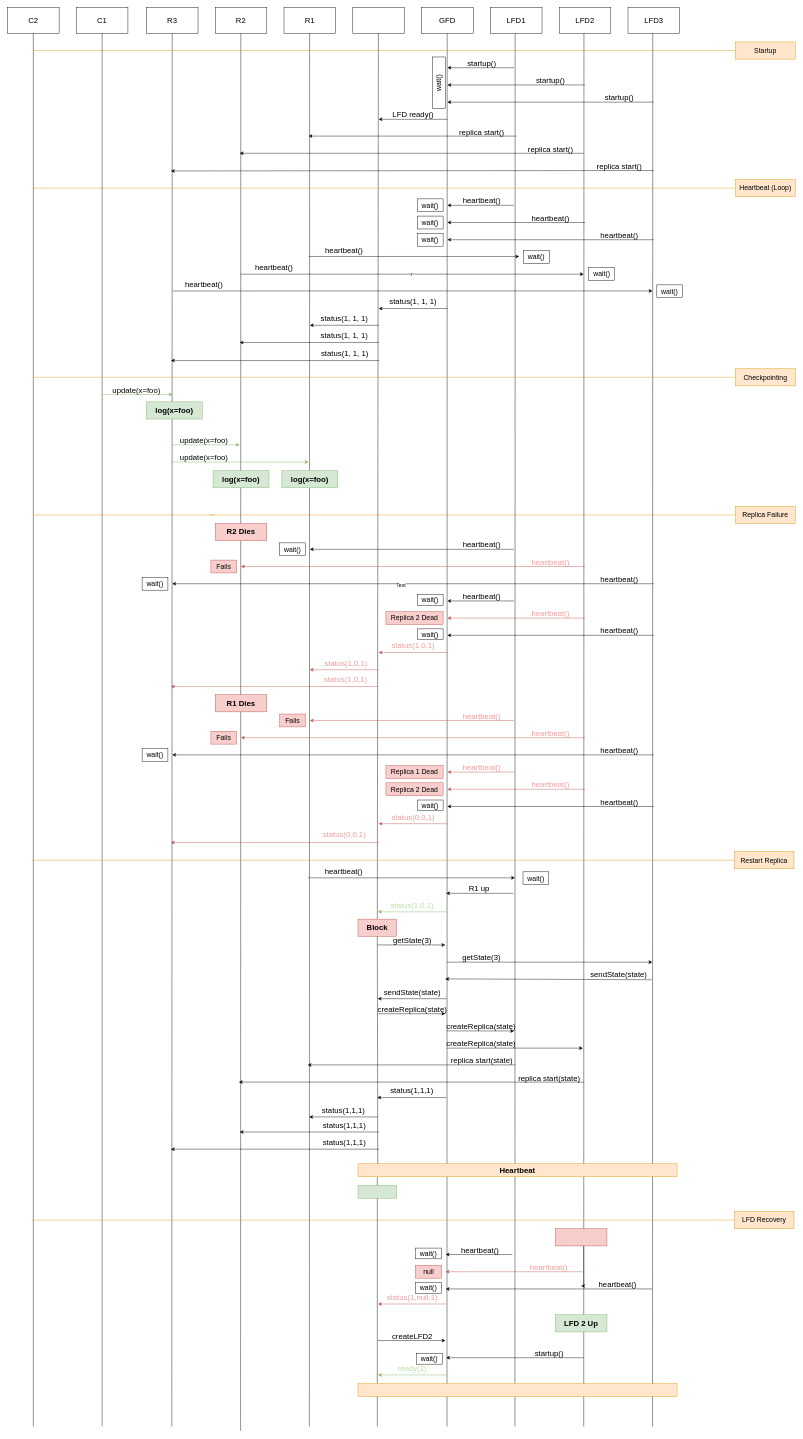
The diagram is 803 pixels wide and 1439 high, and some of its shapes have lost their labels. The shapes that lost their labels are listed below. From the top down, each one's box as (x1, y1, x2, y2) in pixels, then its label:
(352, 7, 404, 33): Replication Manager
(358, 1185, 397, 1198): Unblock
(555, 1228, 607, 1246): LFD 2 Dies
(358, 1383, 677, 1396): Restart Replicas
